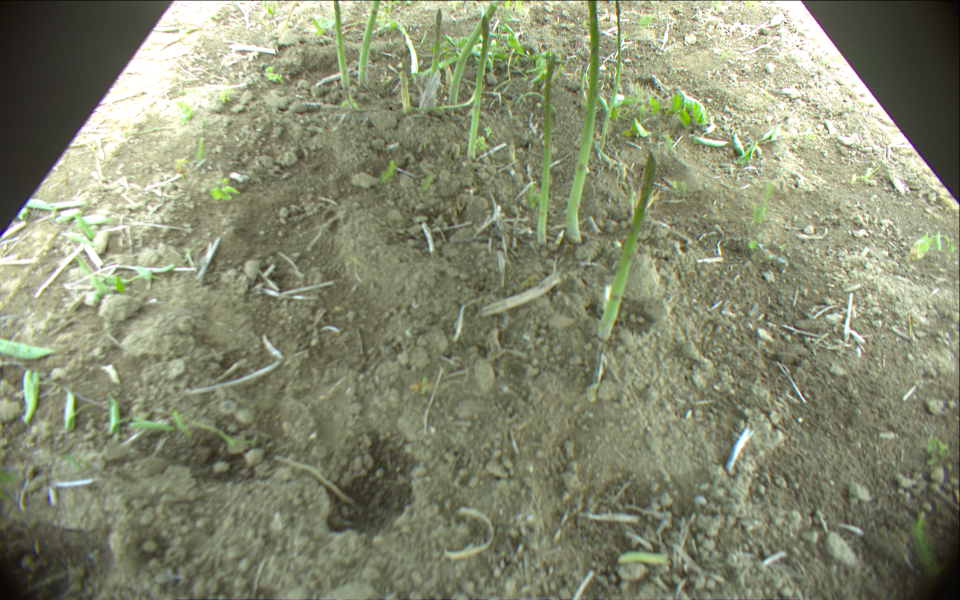aspa: (597, 151, 657, 340), (565, 1, 599, 245), (448, 1, 496, 108), (464, 17, 491, 159), (536, 55, 556, 246), (602, 1, 621, 152), (391, 12, 421, 77), (358, 1, 380, 87), (334, 1, 350, 96), (431, 8, 444, 84), (400, 71, 411, 115)
